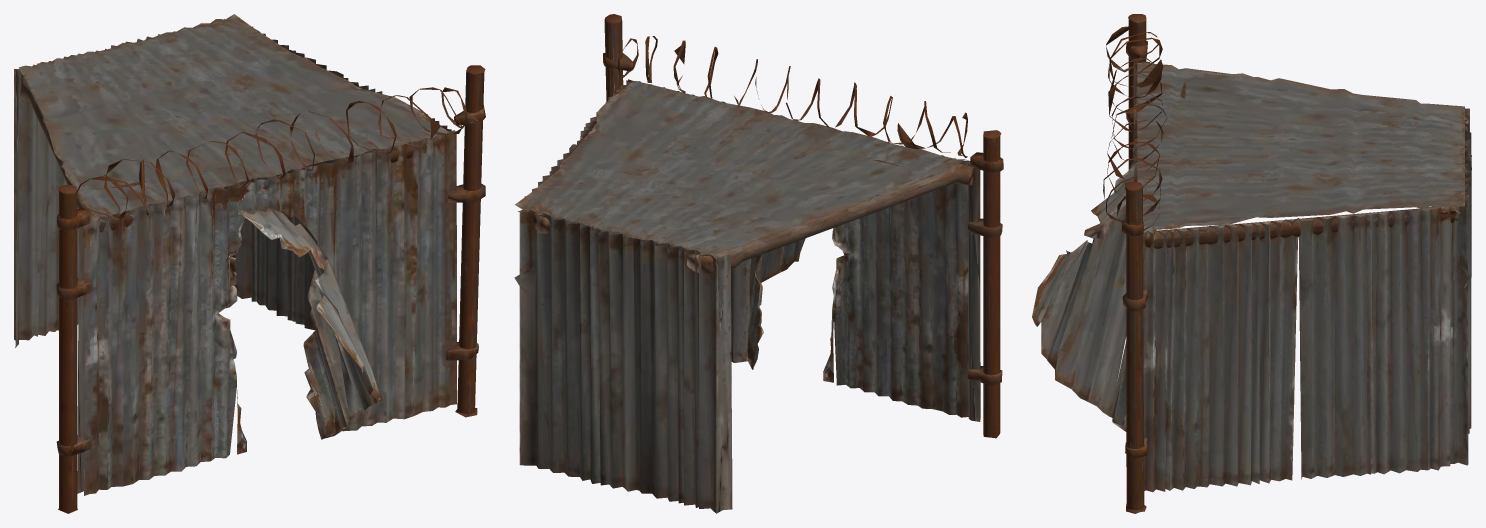
The model's file is fence_hole_escape.glb.
3 views of the same model, side by side, from view 1: azimuth 30°, elevation 25°; view 2: azimuth 150°, elevation 25°; view 3: azimuth 270°, elevation 25° (orthographic). The views are drawn at different scales.
Visible parts, largest first — view 1: Meshy_AI_fence_hole_escape_3d_20261028_texture; view 2: Meshy_AI_fence_hole_escape_3d_20261028_texture; view 3: Meshy_AI_fence_hole_escape_3d_20261028_texture.
Part boxes in pixels (<box>): Meshy_AI_fence_hole_escape_3d_20261028_texture: <box>14,14,485,513</box>; Meshy_AI_fence_hole_escape_3d_20261028_texture: <box>514,14,1003,513</box>; Meshy_AI_fence_hole_escape_3d_20261028_texture: <box>1032,14,1471,513</box>.
Size of the model in its own units: 4 by 3.09 by 3.75.
Materials: 1 (1 with a texture image).
